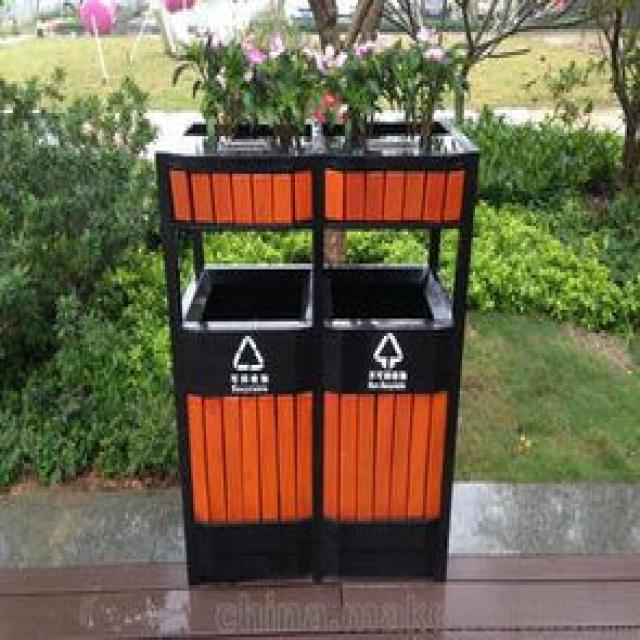garbage_bin: (152, 119, 477, 582)
